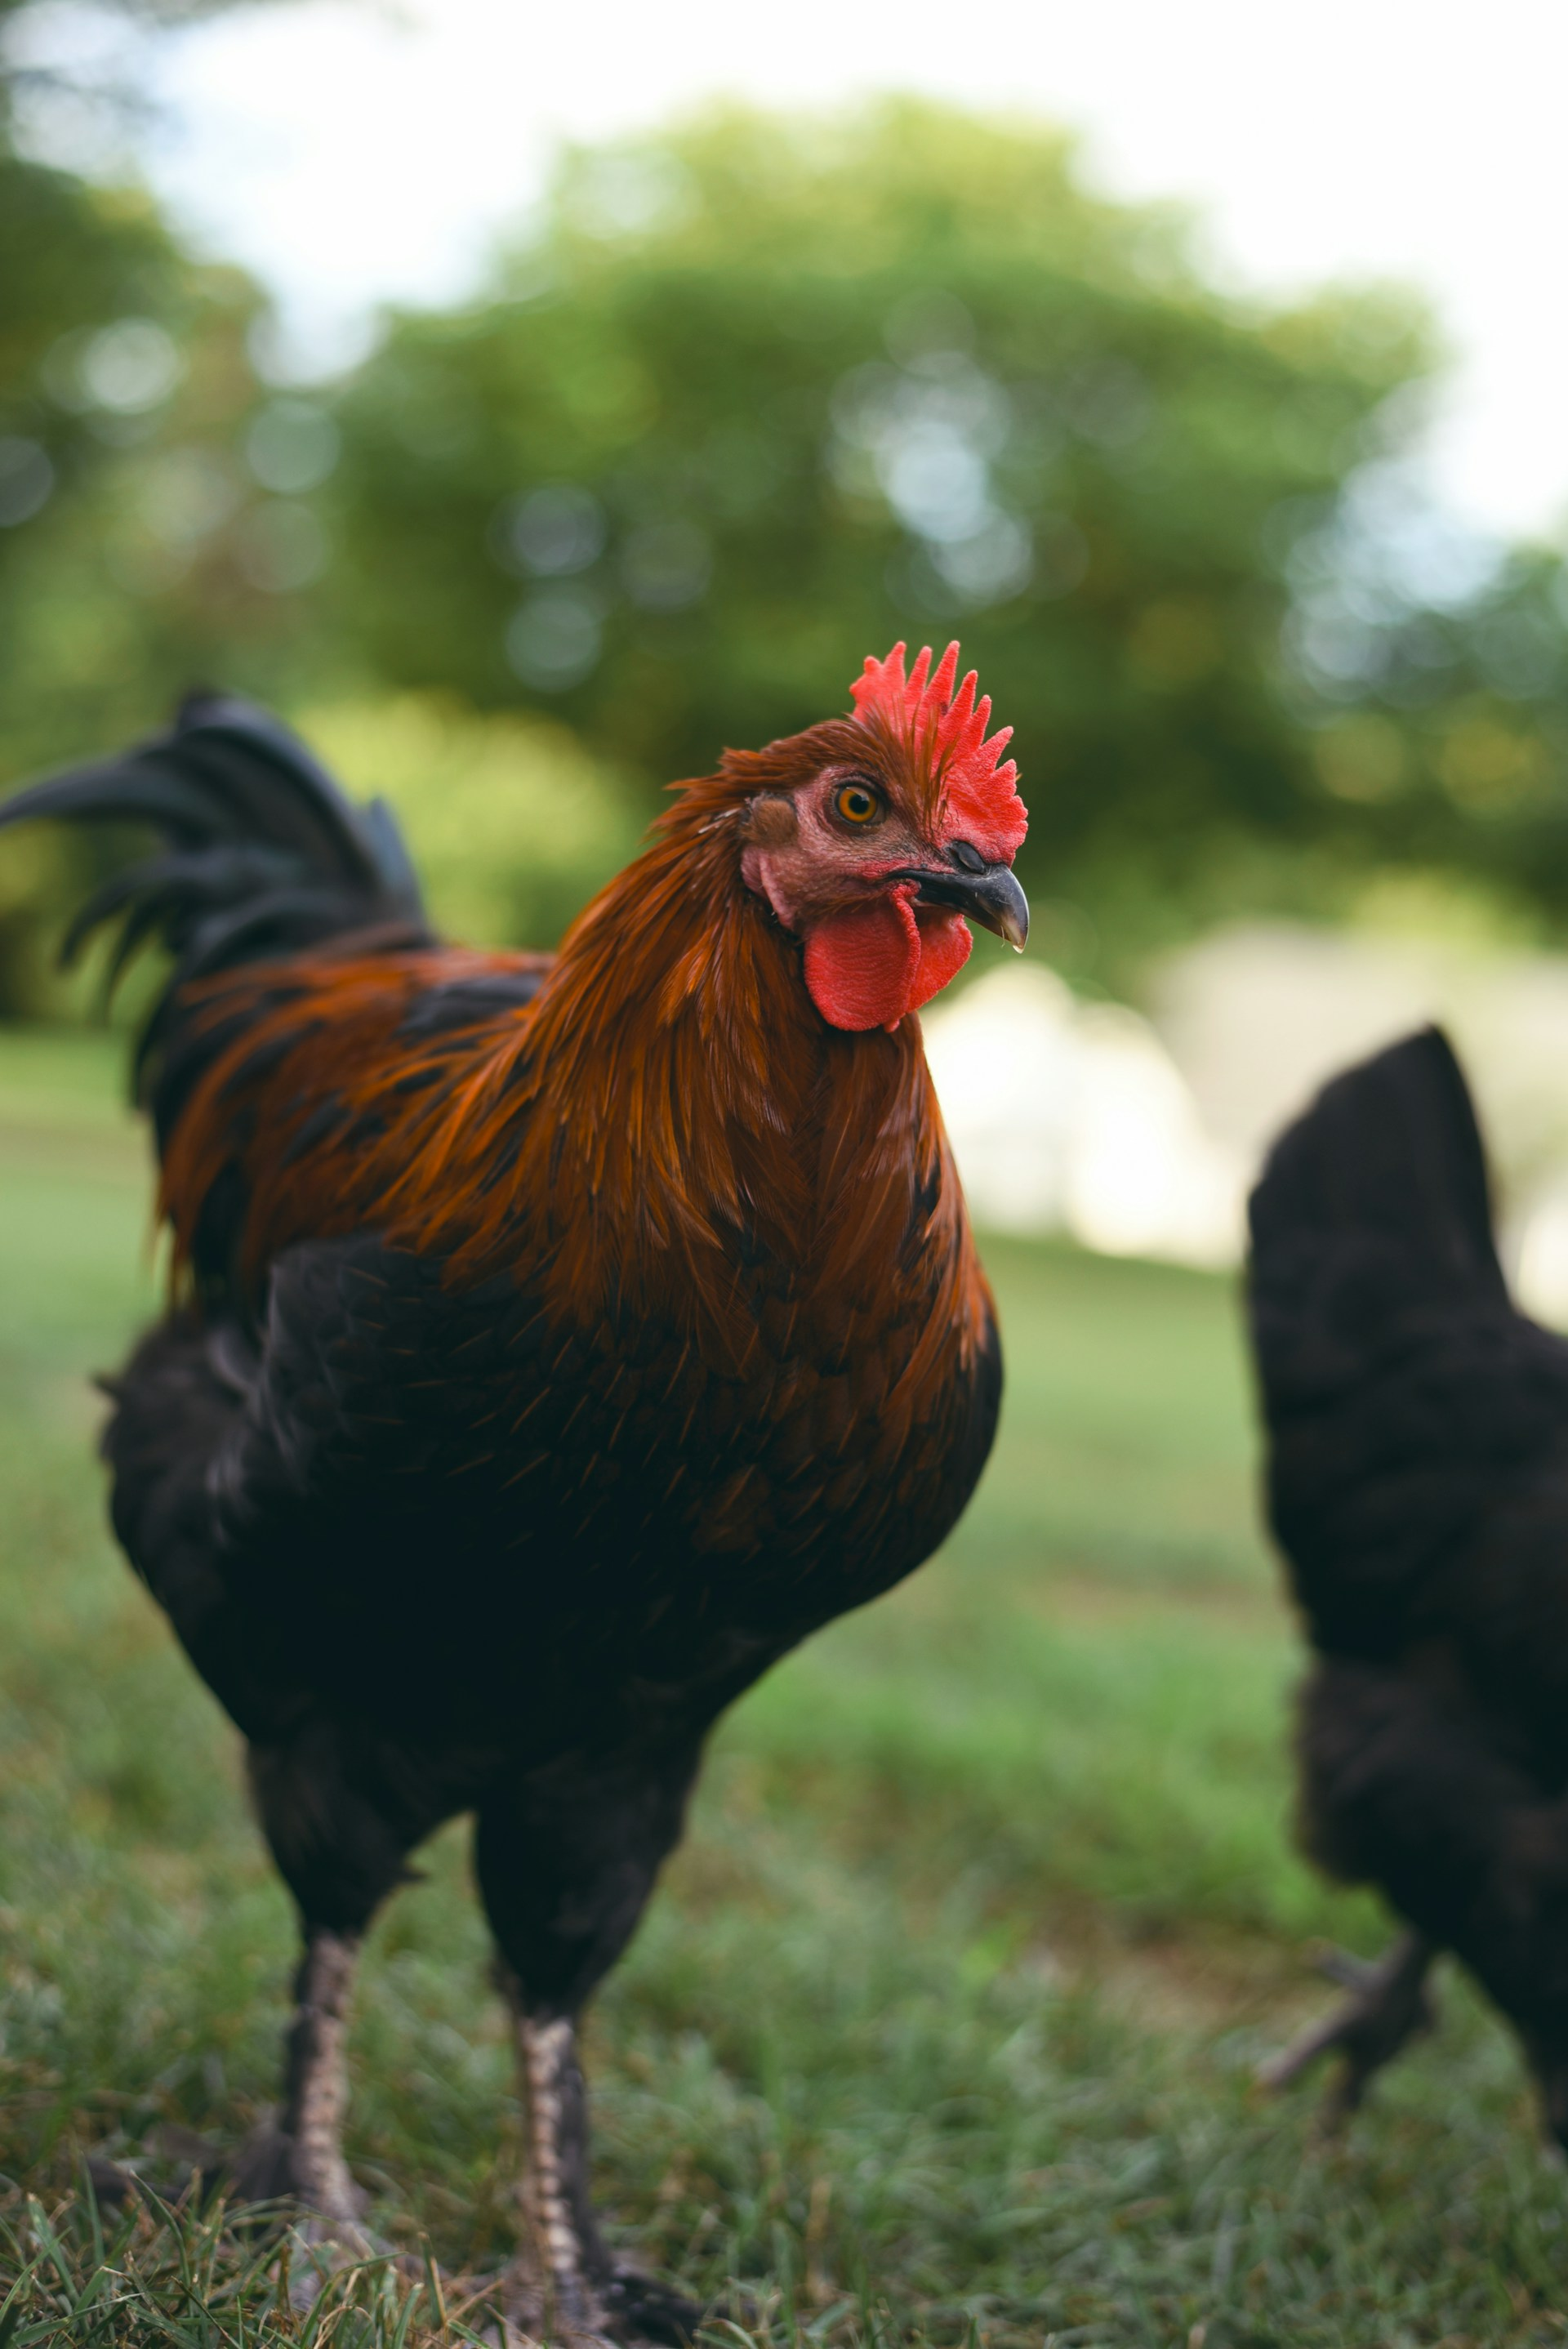hen: (0, 613, 1094, 2349)
